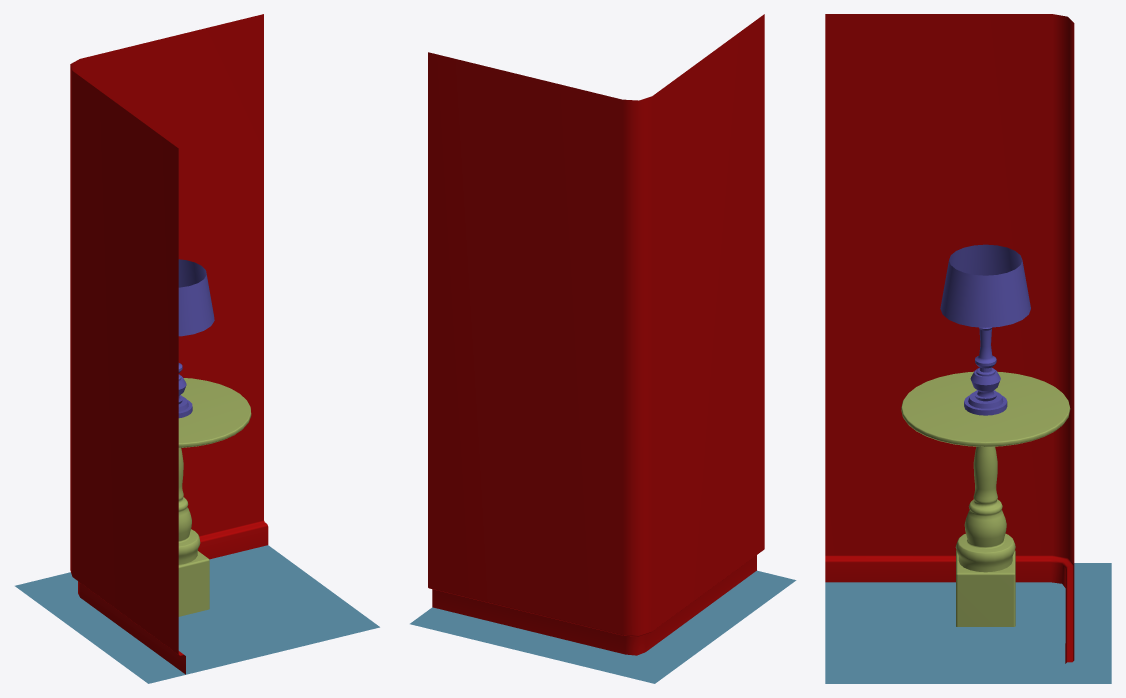
File: ArtSamples.fbx
3 views of the same model, side by side, from view 1: azimuth 30°, elevation 25°; view 2: azimuth 150°, elevation 25°; view 3: azimuth 270°, elevation 25° (orthographic). The views are drawn at different scales.
Parts seen in each view (by area): view 1: pCylinder9; view 2: pCylinder9; view 3: pCylinder9.
Part boxes in pixels (x1,y1,x2,y2): pCylinder9: (15, 14, 379, 683); pCylinder9: (410, 14, 796, 683); pCylinder9: (825, 14, 1111, 683).
Size of the model in its own units: 115 by 252 by 115.
